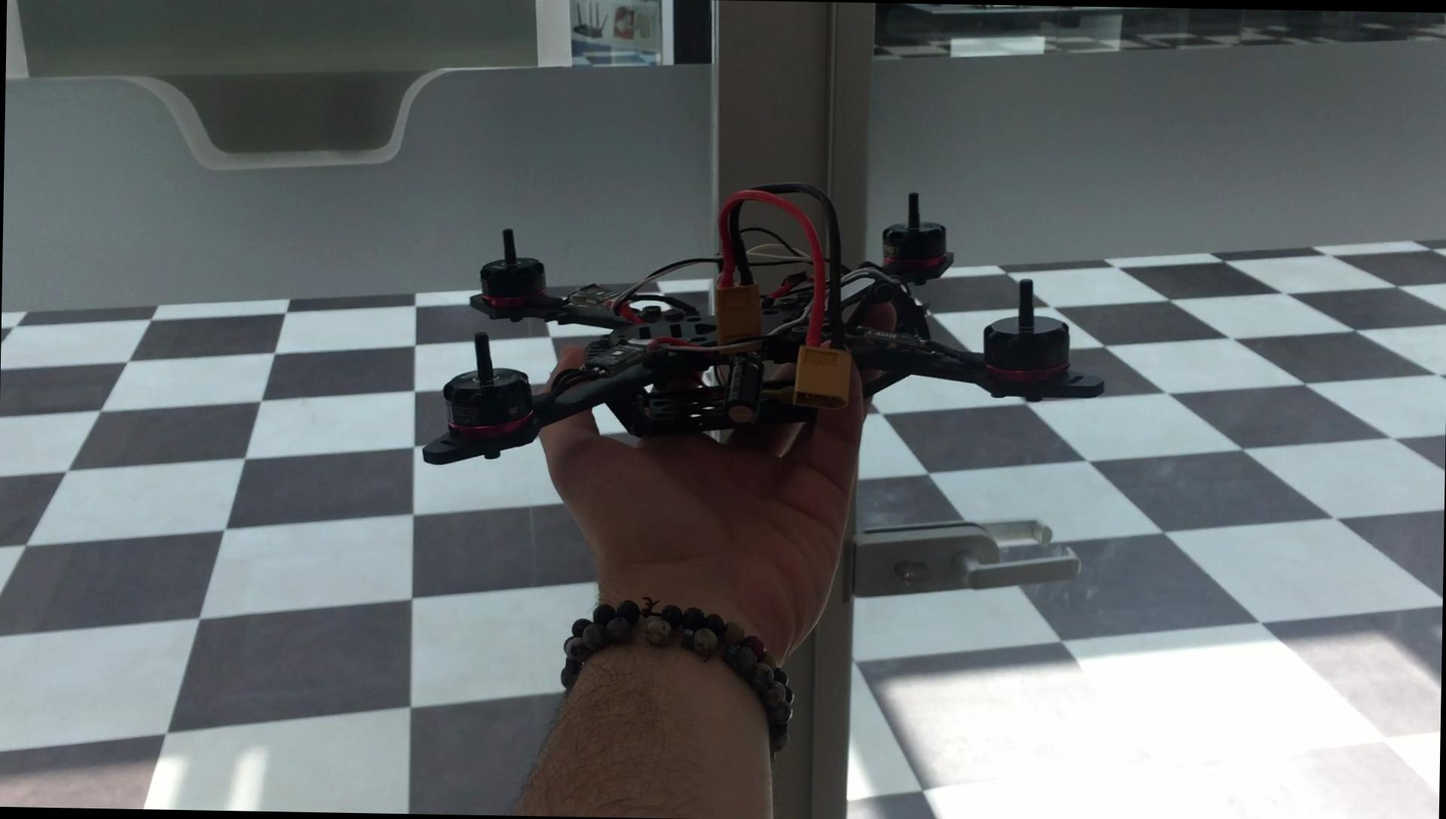drone: (406, 187, 1124, 475)
